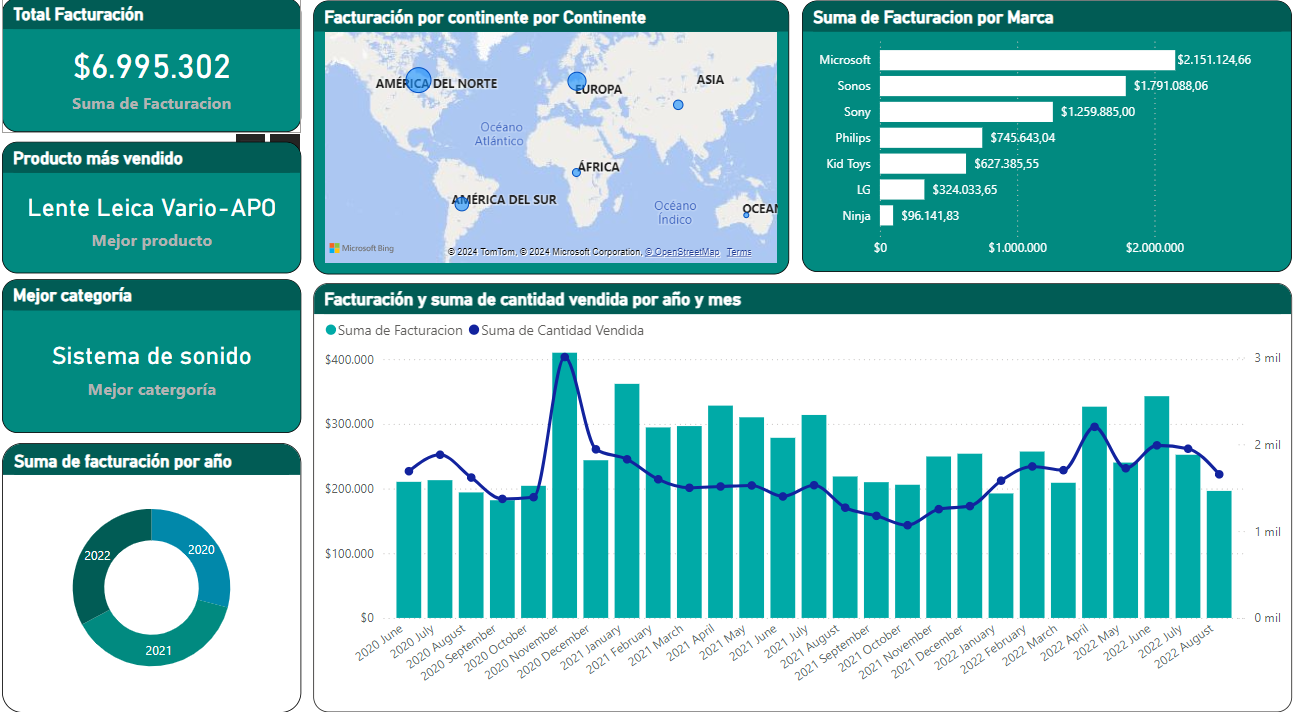

Layout of this report page (visuals, bound fields, positions):
{"tool":"powerbi","page":{"name":"Page 1","canvas":[1280,720],"ordinal":0},"visuals":[{"type":"card","title":"Total Facturación","fields":{"Values":["Sum(ventasTech.Facturacion)"]},"box":[10,10,292.5,131.2],"z":0},{"type":"card","title":"Producto más vendido","fields":{"Values":["Min(ventasTech.Producto)"]},"box":[10,150,292.5,128.8],"z":1000},{"type":"map","fields":{"Category":["ventasTech.Continente"],"Size":["Sum(ventasTech.Facturacion)"]},"box":[314.4,12.6,465.3,268.3],"z":2000},{"type":"lineStackedColumnComboChart","title":"Facturación y suma de cantidad vendida por año y mes","fields":{"Y":["Sum(ventasTech.Facturacion)"],"Category":["ventasTech.Fecha De Venta.Variation.Date Hierarchy.Year","ventasTech.Fecha De Venta.Variation.Date Hierarchy.Month"],"Y2":["Sum(ventasTech.Cantidad Vendida)"]},"box":[313.8,288.8,957.5,420],"z":3000},{"type":"clusteredBarChart","fields":{"Category":["ventasTech.Marca"],"Y":["Sum(ventasTech.Facturacion)"]},"box":[792.3,12.6,479.3,265.5],"z":4000},{"type":"card","title":"Mejor categoría","fields":{"Values":["Min(ventasTech.Categoría)"]},"box":[10,285,292.5,150],"z":5000},{"type":"donutChart","title":"Suma de facturación por año","fields":{"Category":["ventasTech.Fecha De Venta.Variation.Date Hierarchy.Year"],"Y":["Sum(ventasTech.Cantidad Vendida)"]},"box":[10,445,292.5,263.8],"z":6000}]}

Visuals, with their boxes in screenshot pixels (x1, y1, x2, y2), scaled from the page's 1280x720 canvas onto the 1300x712 screenshot:
"Total Facturación" card: <region>10, 10, 307, 140</region>
"Producto más vendido" card: <region>10, 148, 307, 276</region>
map - ventasTech.Continente x Sum(ventasTech.Facturacion): <region>319, 12, 792, 278</region>
"Facturación y suma de cantidad vendida por año y mes" lineStackedColumnComboChart: <region>319, 286, 1291, 701</region>
clusteredBarChart - ventasTech.Marca x Sum(ventasTech.Facturacion): <region>805, 12, 1291, 275</region>
"Mejor categoría" card: <region>10, 282, 307, 430</region>
"Suma de facturación por año" donutChart: <region>10, 440, 307, 701</region>
